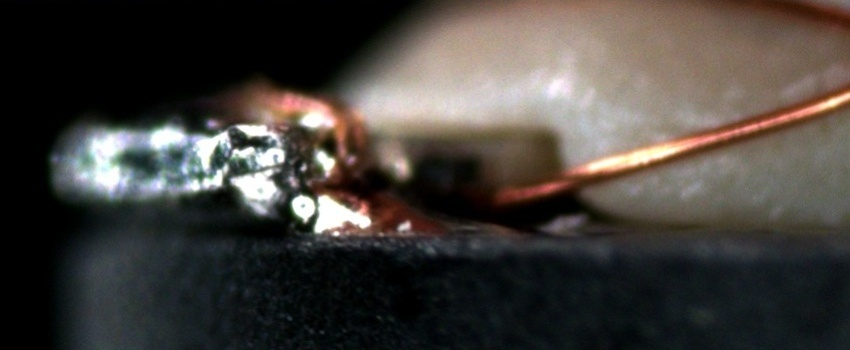DL: (596, 97, 774, 164)
TE: (228, 82, 368, 174)
